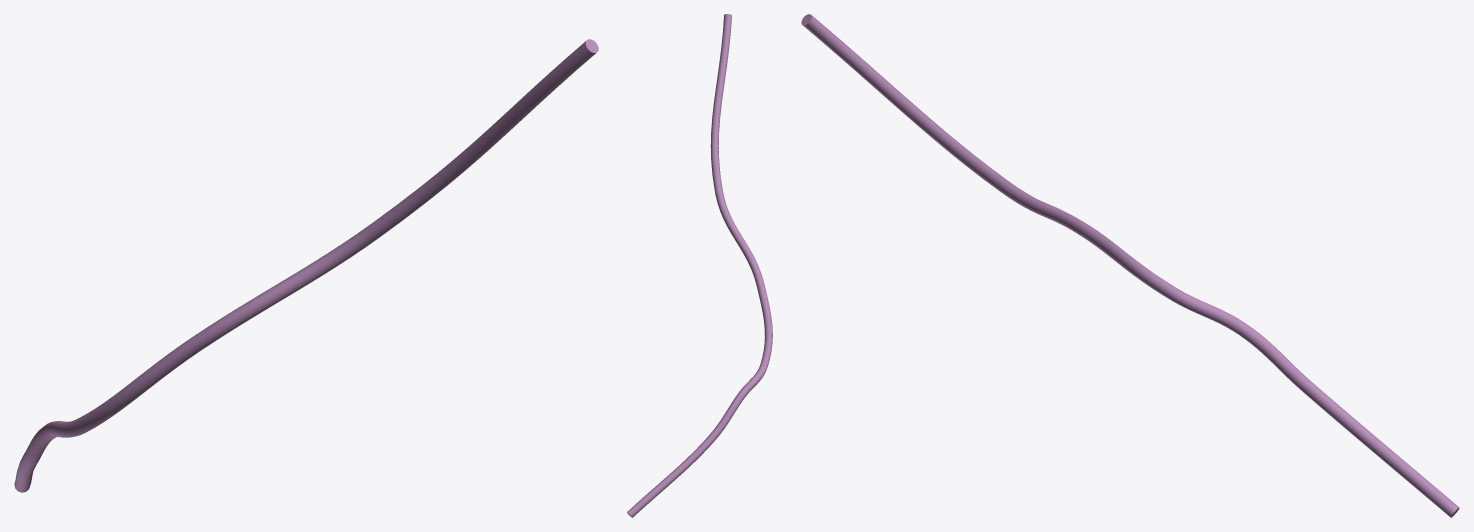
3 views of the same model, side by side, from view 1: azimuth 30°, elevation 25°; view 2: azimuth 150°, elevation 25°; view 3: azimuth 270°, elevation 25° (orthographic). The views are drawn at different scales.
Parts seen in each view (by area): view 1: 左侧鼓索; view 2: 左侧鼓索; view 3: 左侧鼓索.
Boxes of the visible parts, left/top/right/bottom form: 左侧鼓索: left=14, top=39, right=598, bottom=492; 左侧鼓索: left=627, top=14, right=772, bottom=517; 左侧鼓索: left=801, top=14, right=1459, bottom=517.
Bounding box in the file's own units: 0.0161 × 0.0344 × 0.0354.
